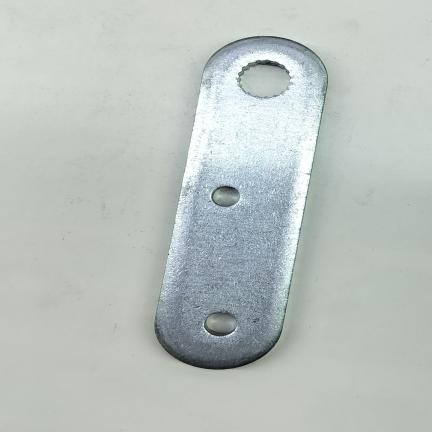incomplete embossing: (183, 244, 270, 280), (199, 242, 263, 281)
